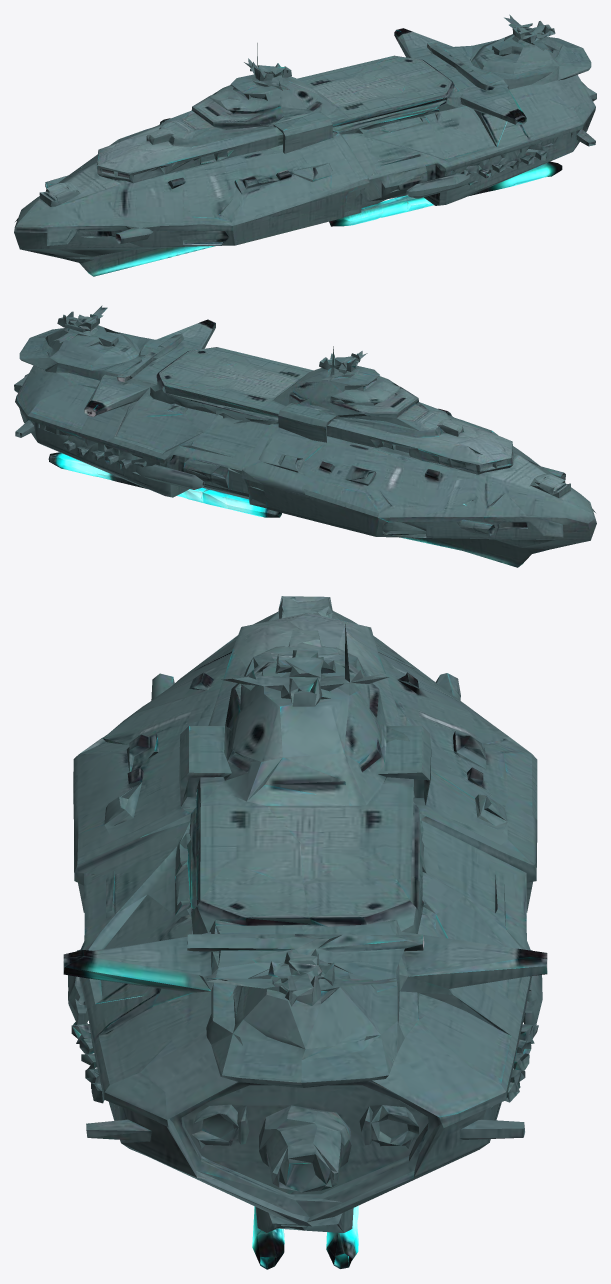
File: nation-y-carrier.glb
3 views of the same model, one above another, from view 1: azimuth 30°, elevation 25°; view 2: azimuth 150°, elevation 25°; view 3: azimuth 270°, elevation 25° (orthographic). The views are drawn at different scales.
Size of the model in its own units: 1.9 by 0.5958 by 0.6914.
Materials: 1 (1 with a texture image).
